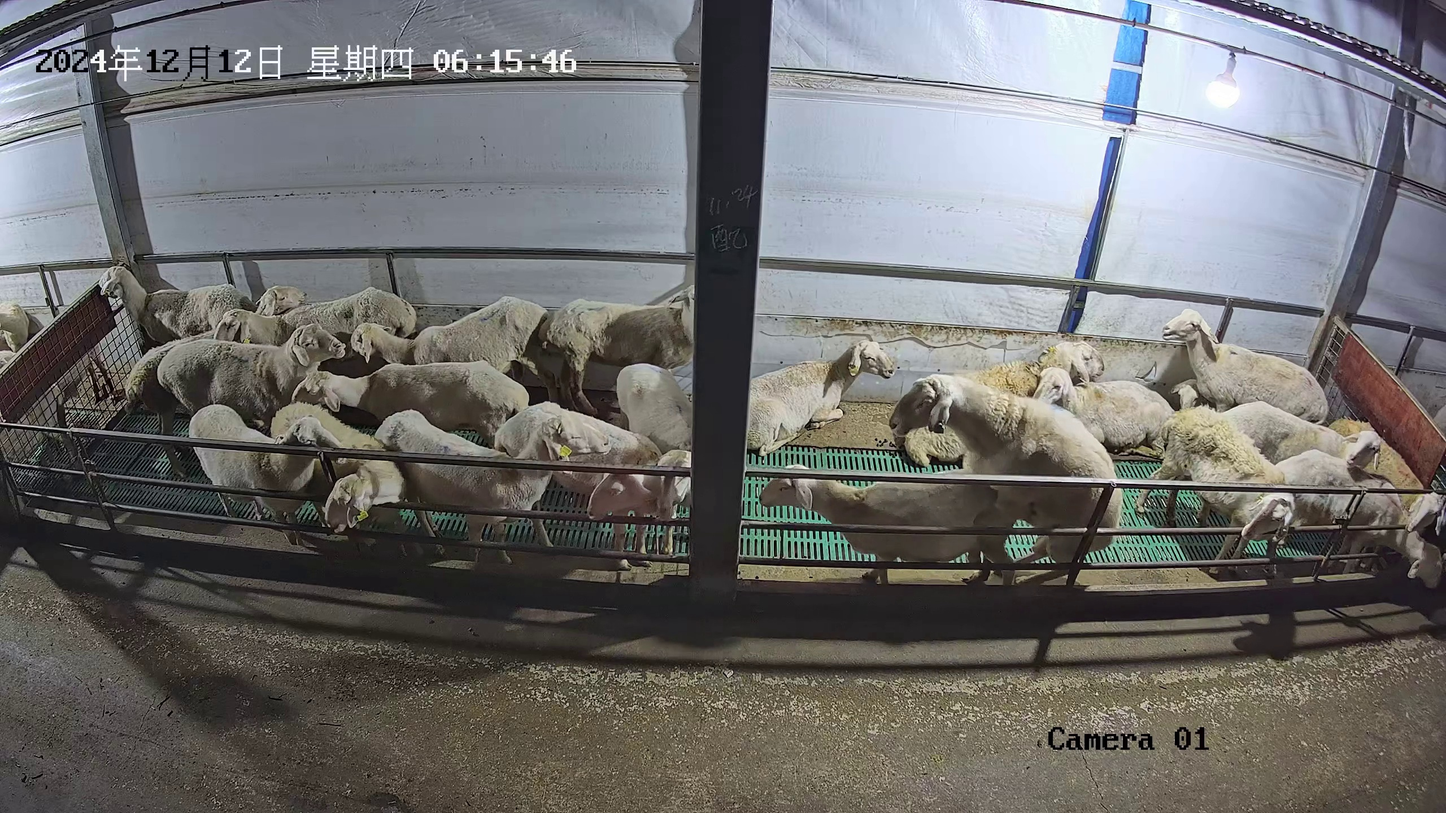Smounting: (752, 371, 1122, 587)
mounted: (756, 458, 1032, 584)
